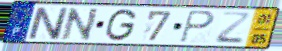7: (146, 10, 172, 42)
G: (103, 8, 139, 43)
N: (27, 5, 70, 41), (60, 7, 101, 42)
P: (178, 9, 216, 44)
Z: (213, 10, 253, 45)
